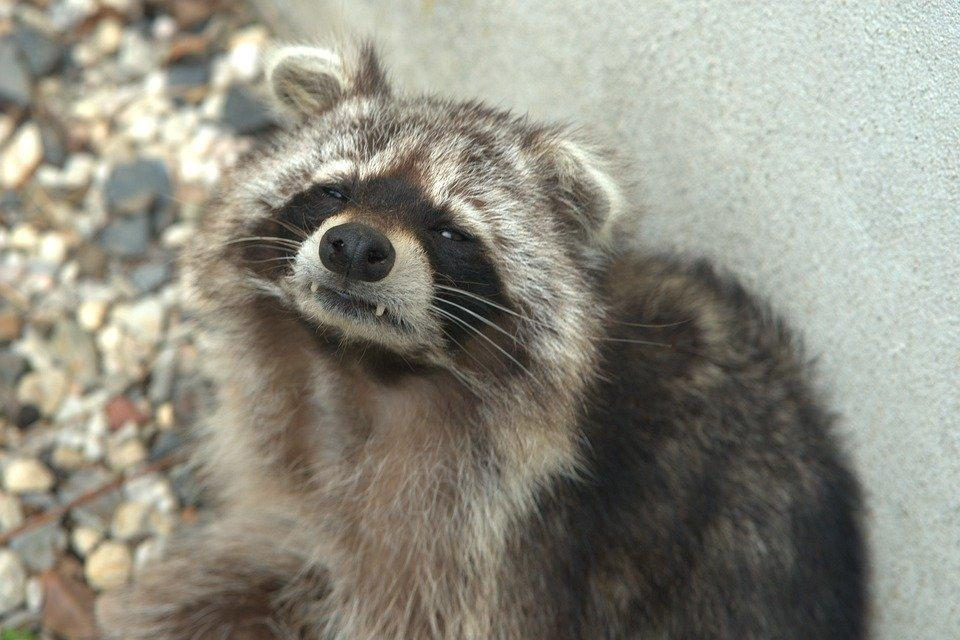raccoon: (119, 41, 866, 640)
